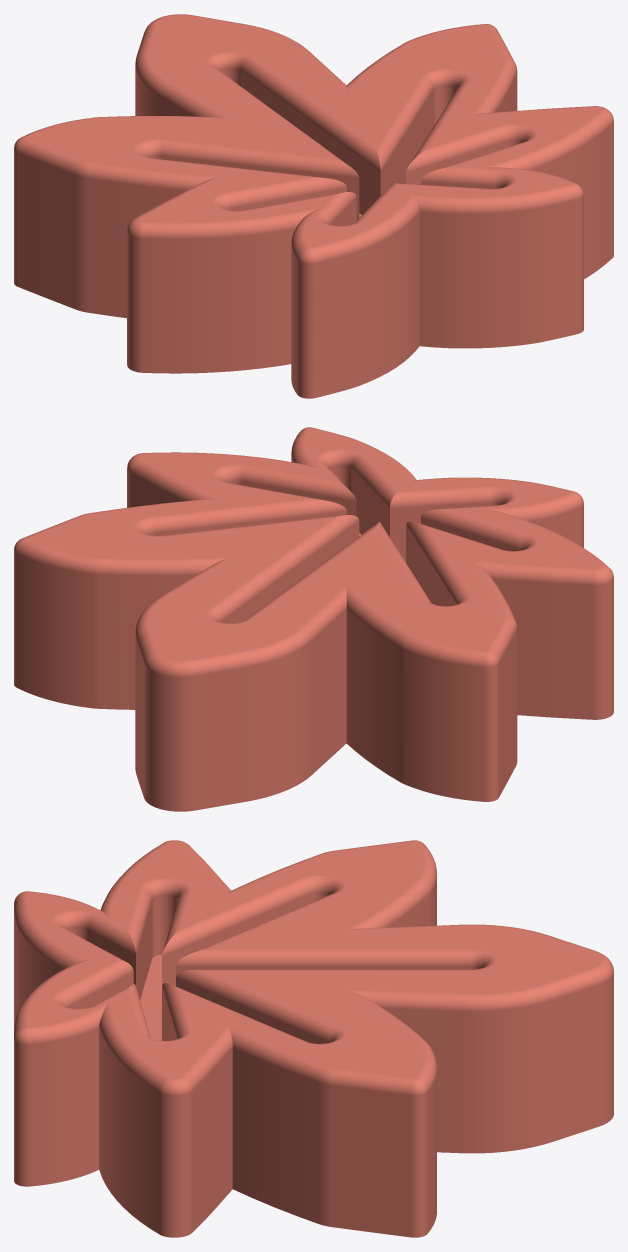
The model's file is asset.glb.
3 views of the same model, one above another, from view 1: azimuth 30°, elevation 25°; view 2: azimuth 150°, elevation 25°; view 3: azimuth 270°, elevation 25° (orthographic). The views are drawn at different scales.
Visible parts, largest first — view 1: momijiAR; view 2: momijiAR; view 3: momijiAR.
Part boxes in pixels (box(x1,y1,x2,y2)): momijiAR: box(14, 14, 613, 398); momijiAR: box(14, 427, 613, 811); momijiAR: box(14, 840, 613, 1237).
Size of the model in its own units: 2.25 by 0.65 by 2.3.
